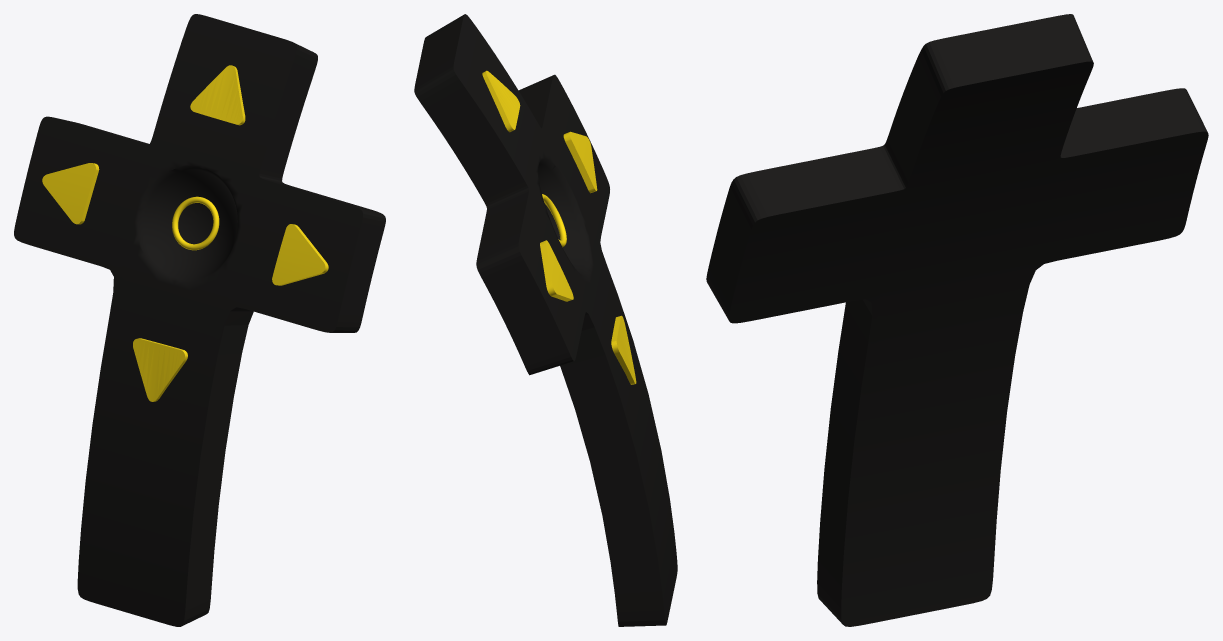
The picture shows the model from 3 angles, left to right: view 1: azimuth 30°, elevation 25°; view 2: azimuth 150°, elevation 25°; view 3: azimuth 270°, elevation 25°; orthographic projection. The views are drawn at different scales.
Visible parts, largest first — view 1: 575; view 2: 575; view 3: 575.
Part boxes in pixels (x1,y1,x2,y2): 575: (14, 14, 385, 626); 575: (414, 14, 677, 626); 575: (706, 14, 1208, 626).
Bounding box in the file's own units: 16.88 × 24.79 × 36.16.
